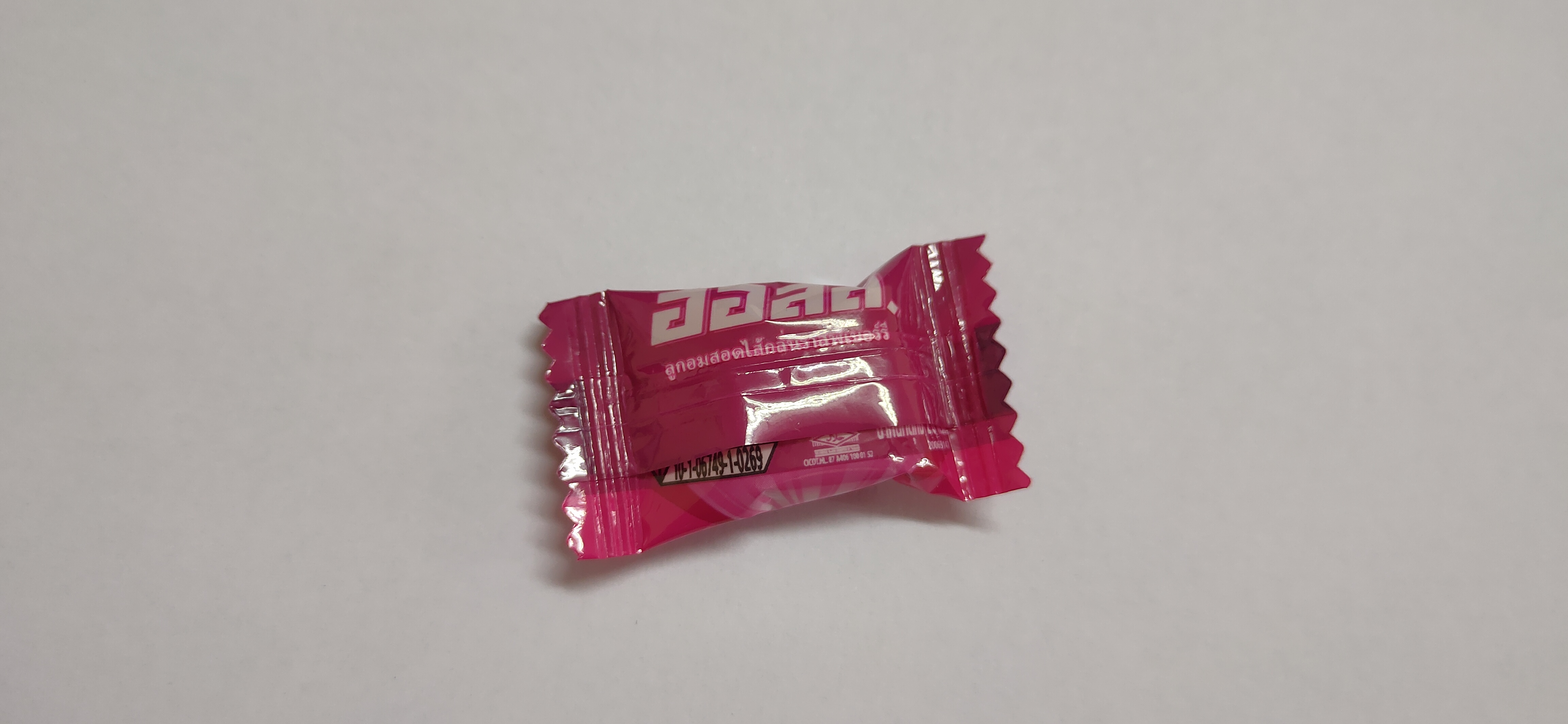plastic: (525, 222, 1046, 587)
